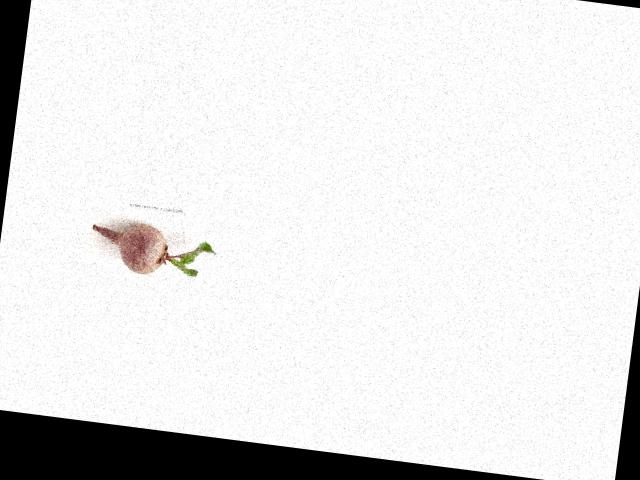beet: (88, 218, 219, 282)
